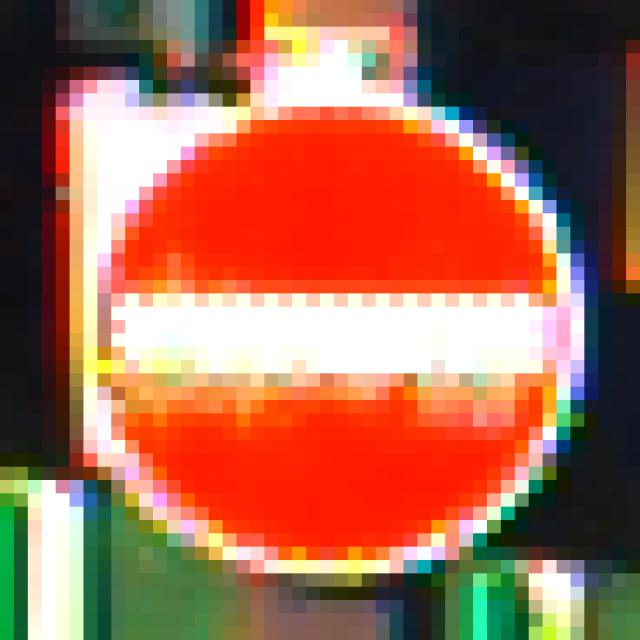No Entry: (71, 81, 572, 574)
